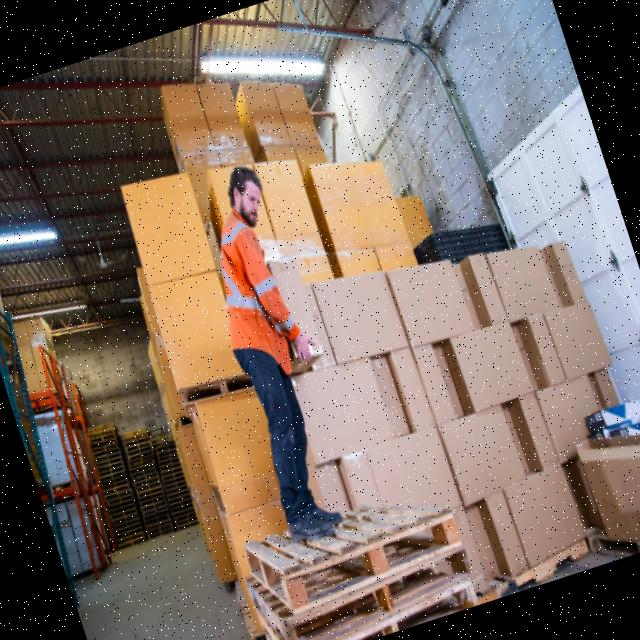Wooden-Pallets: (243, 505, 462, 615), (244, 549, 476, 640)
